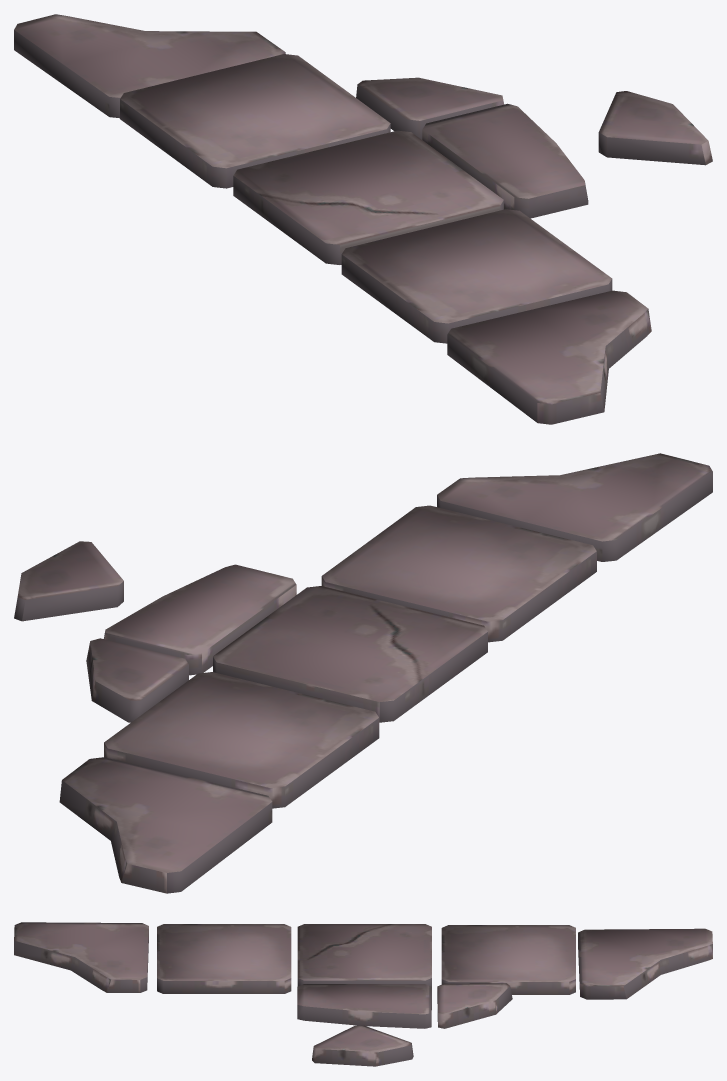
The model's file is StoneplateGroup2.fbx.
3 renders of one model, top to bottom at view 1: azimuth 30°, elevation 25°; view 2: azimuth 150°, elevation 25°; view 3: azimuth 270°, elevation 25°, orthographic. The views are drawn at different scales.
Parts seen in each view (by area): view 1: Stoneplate02 (3), Stoneplate01 (4), Stoneplate02 (4), StoneplateGroup2, Stoneplate05 (4), Stoneplate04, Stoneplate06 (2), Stoneplate06 (1); view 2: Stoneplate01 (4), Stoneplate02 (4), Stoneplate02 (3), Stoneplate05 (4), StoneplateGroup2, Stoneplate04, Stoneplate06 (2), Stoneplate06 (1); view 3: Stoneplate02 (3), Stoneplate02 (4), Stoneplate01 (4), Stoneplate05 (4), StoneplateGroup2, Stoneplate04, Stoneplate06 (2), Stoneplate06 (1).
Boxes of the visible parts, bbox=[...] form: Stoneplate02 (3): bbox=[341, 209, 612, 343]; Stoneplate01 (4): bbox=[233, 130, 503, 264]; Stoneplate02 (4): bbox=[120, 54, 390, 188]; StoneplateGroup2: bbox=[447, 290, 651, 424]; Stoneplate05 (4): bbox=[14, 14, 285, 118]; Stoneplate04: bbox=[422, 103, 588, 218]; Stoneplate06 (2): bbox=[598, 91, 712, 165]; Stoneplate06 (1): bbox=[356, 77, 504, 139]; Stoneplate01 (4): bbox=[213, 586, 487, 722]; Stoneplate02 (4): bbox=[104, 672, 379, 808]; Stoneplate02 (3): bbox=[321, 505, 596, 642]; Stoneplate05 (4): bbox=[59, 757, 272, 893]; StoneplateGroup2: bbox=[437, 453, 712, 561]; Stoneplate04: bbox=[104, 564, 296, 675]; Stoneplate06 (2): bbox=[14, 541, 123, 621]; Stoneplate06 (1): bbox=[86, 638, 188, 722]; Stoneplate02 (3): bbox=[157, 924, 291, 993]; Stoneplate02 (4): bbox=[441, 925, 575, 994]; Stoneplate01 (4): bbox=[297, 924, 431, 986]; Stoneplate05 (4): bbox=[578, 928, 712, 999]; StoneplateGroup2: bbox=[14, 922, 148, 992]; Stoneplate04: bbox=[297, 984, 431, 1028]; Stoneplate06 (2): bbox=[312, 1025, 413, 1066]; Stoneplate06 (1): bbox=[437, 983, 512, 1028].
Size of the model in its own units: 2.6 by 0.1834 by 5.86.
Materials: 1 (1 with a texture image).
